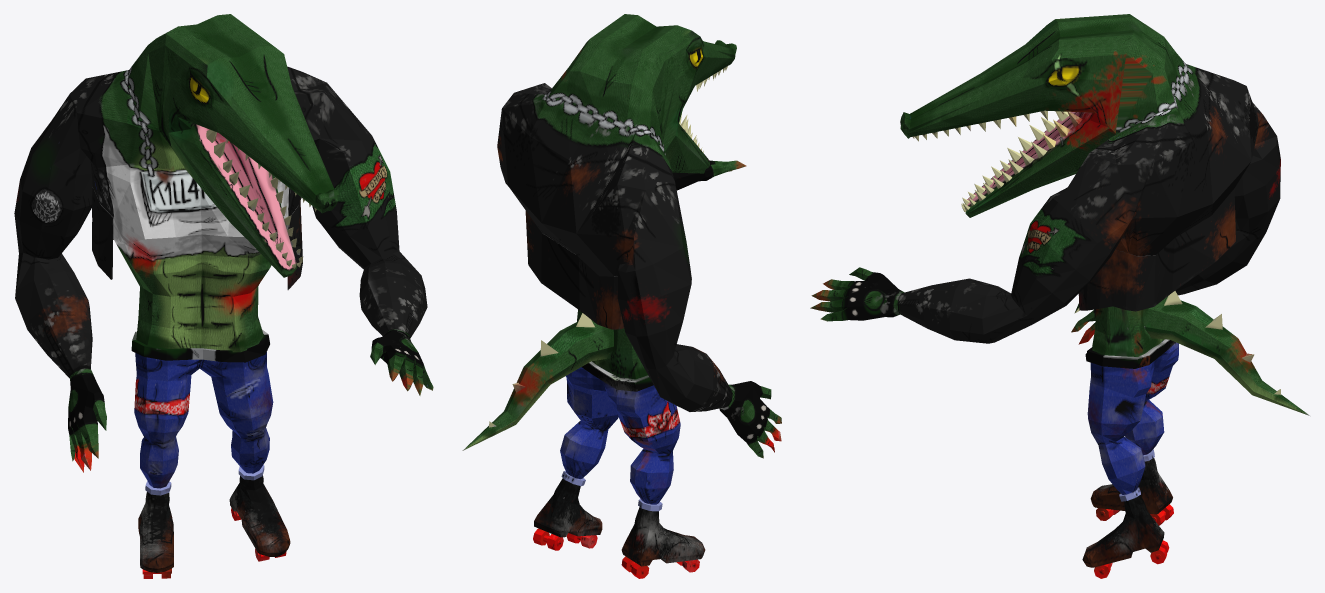
File: cocodrilaBonesSelect_000035.obj
3 views of the same model, side by side, from view 1: azimuth 30°, elevation 25°; view 2: azimuth 150°, elevation 25°; view 3: azimuth 270°, elevation 25° (orthographic). The views are drawn at different scales.
Parts seen in each view (by area): view 1: Crocodile.002_Cylinder.002; view 2: Crocodile.002_Cylinder.002; view 3: Crocodile.002_Cylinder.002.
Boxes of the visible parts, x1,y1,x2,y2 form: Crocodile.002_Cylinder.002: (14,14,433,578); Crocodile.002_Cylinder.002: (462,14,781,578); Crocodile.002_Cylinder.002: (810,14,1309,578).
Size of the model in its own units: 3.78 by 6.73 by 5.85.
